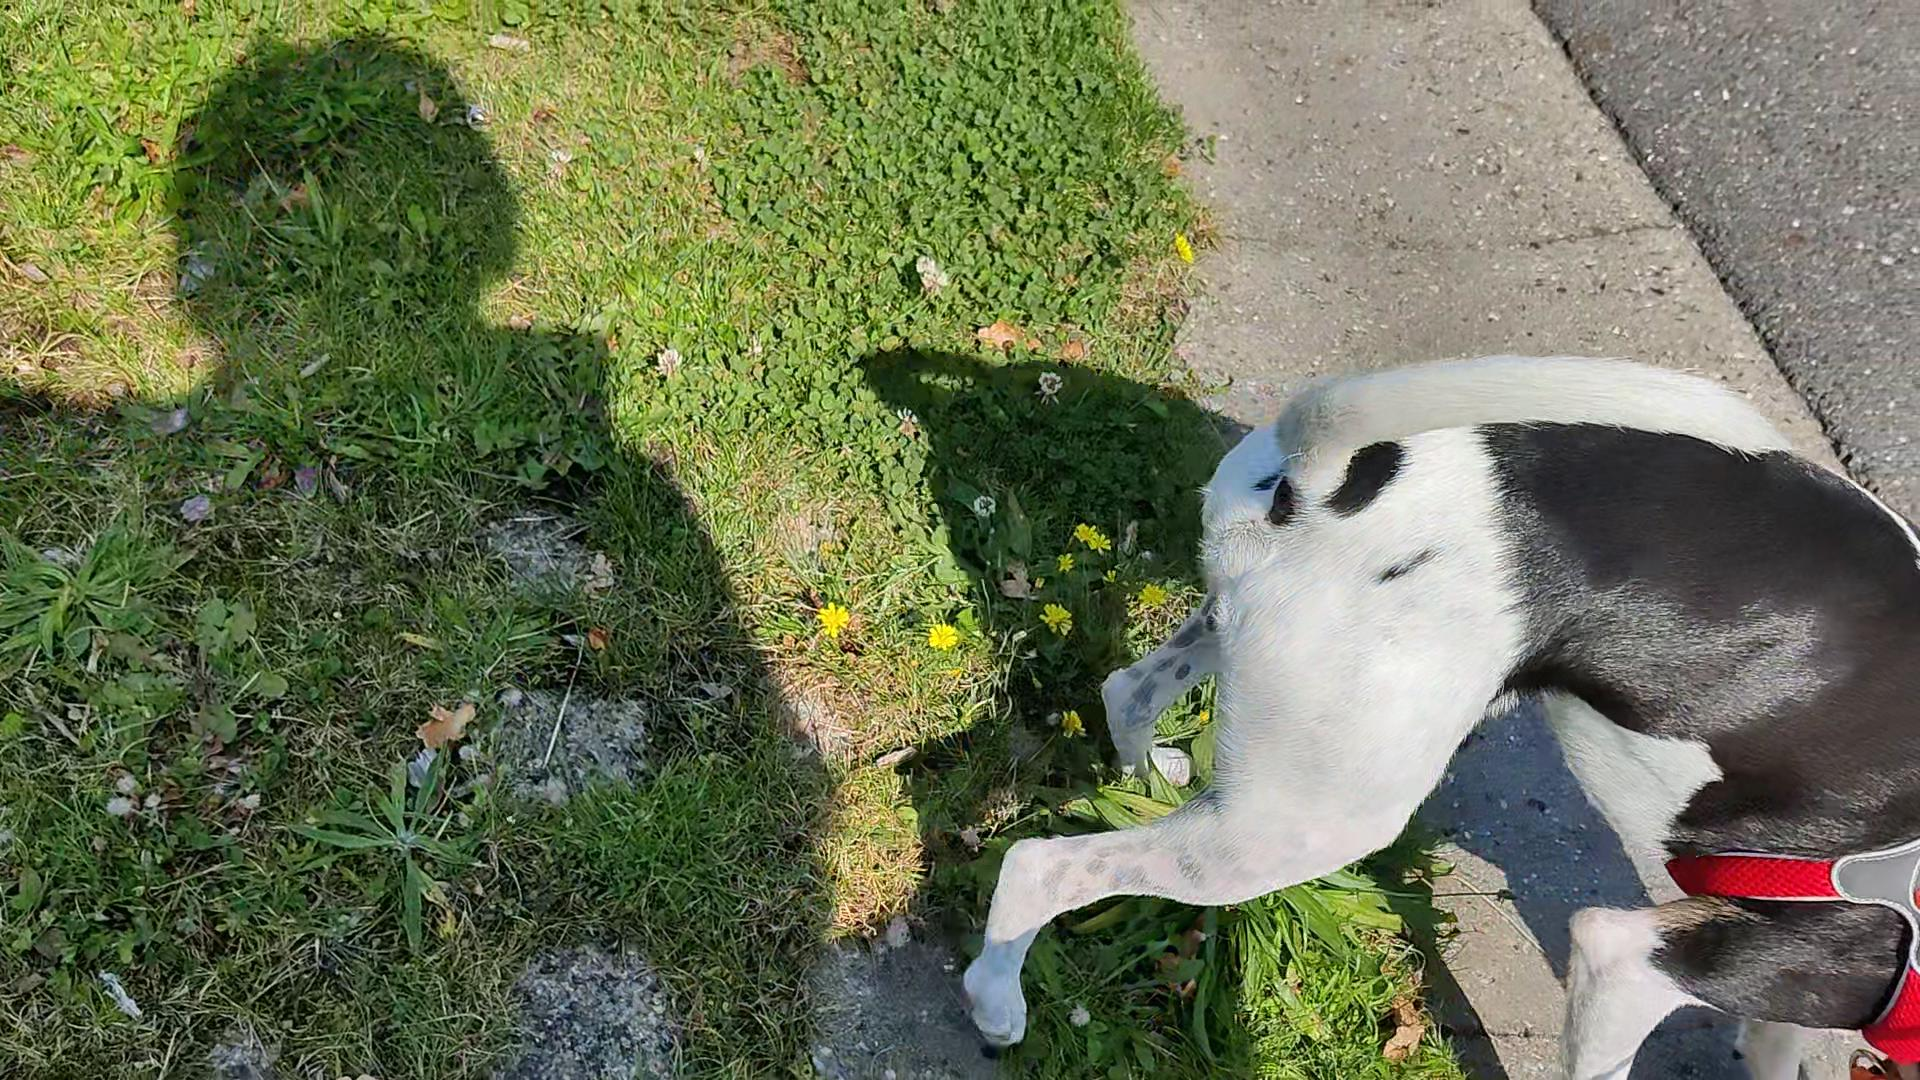Dog: (951, 347, 1919, 1079)
